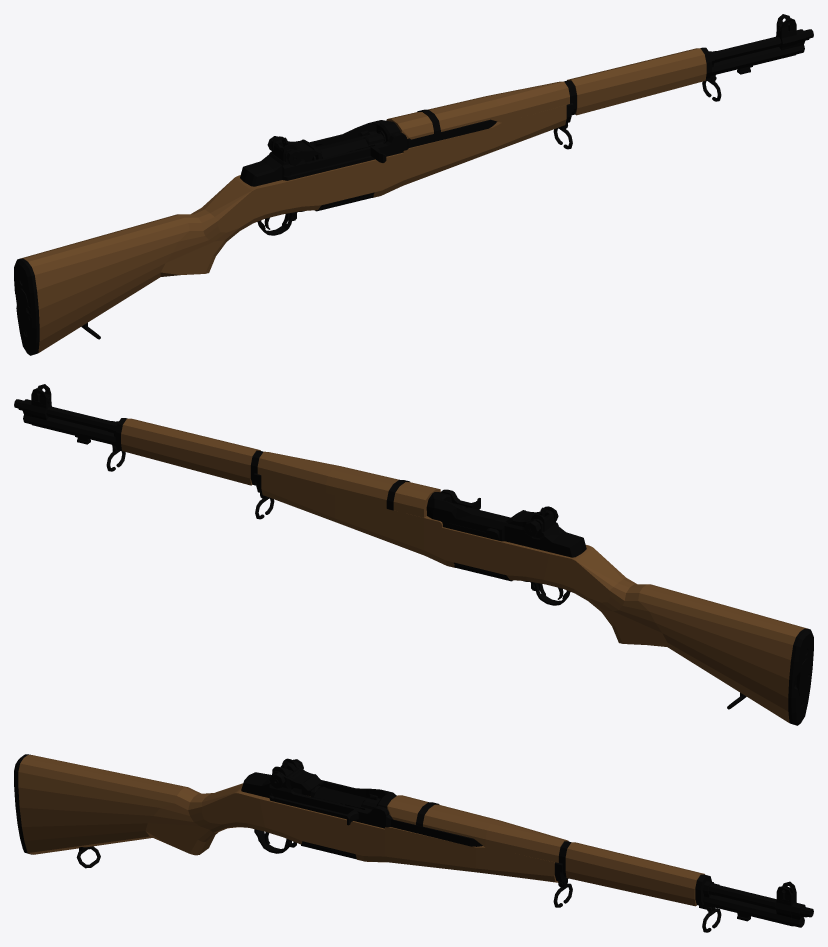
The model's file is m1_garand.glb.
3 views of the same model, one above another, from view 1: azimuth 30°, elevation 25°; view 2: azimuth 150°, elevation 25°; view 3: azimuth 330°, elevation 25° (orthographic).
Parts seen in each view (by area): view 1: m1 garand_3 (×2), m1gar reload handle_4, m1gar bolt carrier_8; view 2: m1 garand_3 (×2); view 3: m1 garand_3 (×2), m1gar reload handle_4, m1gar bolt carrier_8.
Boxes of the visible parts, bbox=[...] form: m1 garand_3 (×2): bbox=[14, 14, 813, 355]; m1gar reload handle_4: bbox=[370, 119, 497, 162]; m1gar bolt carrier_8: bbox=[312, 131, 385, 160]; m1 garand_3 (×2): bbox=[14, 384, 813, 725]; m1 garand_3 (×2): bbox=[14, 754, 813, 932]; m1gar reload handle_4: bbox=[347, 806, 703, 901]; m1gar bolt carrier_8: bbox=[310, 785, 380, 811].
Size of the model in its own units: 11.09 by 2.08 by 0.7264.
